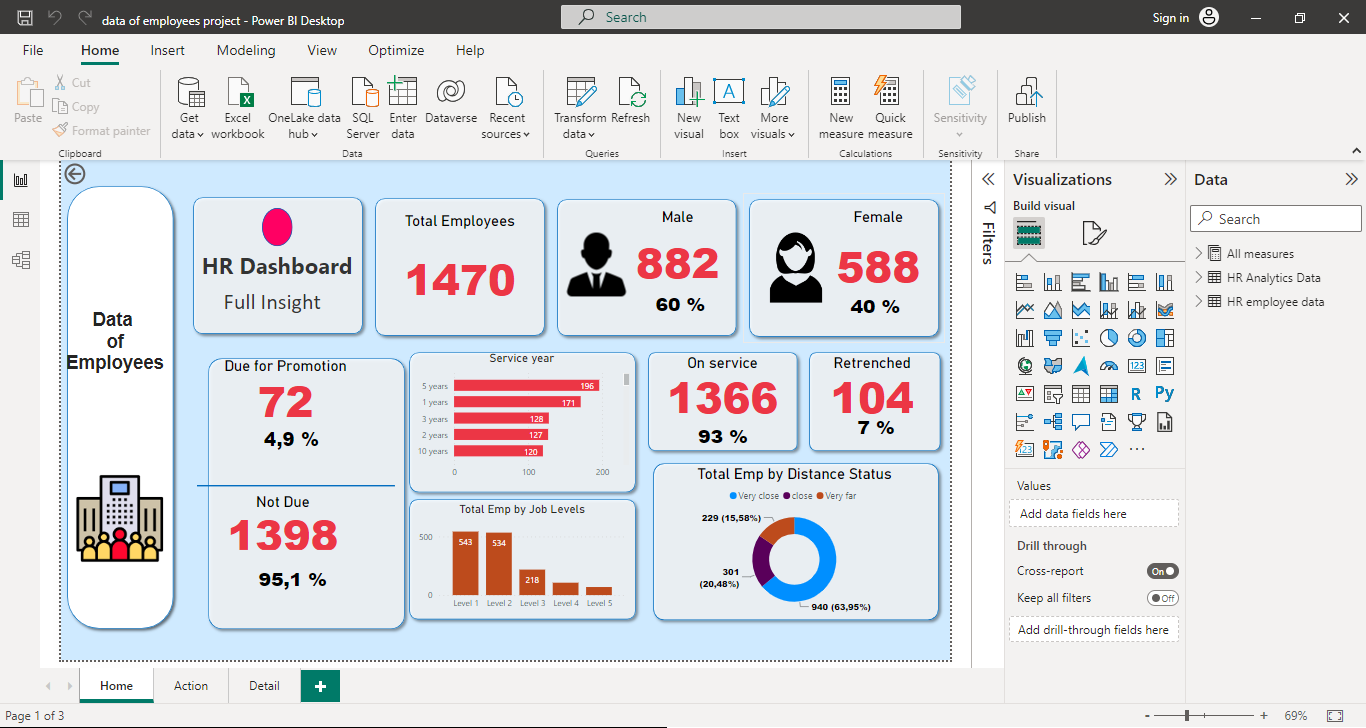

The page's visual inventory and layout, read from the dashboard file:
{"tool":"powerbi","page":{"name":"Home","canvas":[1280,720],"ordinal":0},"visuals":[{"type":"shape","box":[0,28.8,171.4,655.2],"z":0},{"type":"shape","box":[181.4,45.4,262,215],"z":1000},{"type":"shape","box":[443.6,45.5,261.8,216.4],"z":2000},{"type":"shape","box":[705.5,47.3,276.4,214.5],"z":3000},{"type":"shape","box":[981.8,47.3,290.9,216.4],"z":4000},{"type":"shape","box":[203,276.5,301,407.5],"z":5000},{"type":"shape","box":[492.7,267.3,343.6,220],"z":6000},{"type":"shape","box":[492.7,480,343.6,190.9],"z":7000},{"type":"shape","box":[836.4,267.3,232.7,160],"z":8000},{"type":"shape","box":[843.6,427.3,429.1,243.6],"z":9000},{"type":"shape","box":[1069.1,267.3,207.3,160],"z":10000},{"type":"textbox","box":[189.1,123.6,245.5,56.4],"z":11000},{"type":"textbox","box":[181.8,180,245.5,56.4],"z":12000},{"type":"shape","box":[289.1,69.1,43.6,54.5],"z":13000},{"type":"card","title":"Total Employees","fields":{"Values":["All measures.Total Emp"]},"box":[458.2,74.5,232.7,161.8],"z":14000},{"type":"card","title":"Male","fields":{"Values":["All measures.Male"]},"box":[807.3,69.1,160,125.5],"z":15000},{"type":"card","title":"Female","fields":{"Values":["All measures.Female"]},"box":[1096.4,69.1,161.8,138.2],"z":16000},{"type":"card","title":"Male","fields":{"Values":["All measures.% female"]},"box":[1096.4,156.4,152.7,107.3],"z":17000},{"type":"image","box":[720,96.4,101.8,107.3],"z":18000},{"type":"image","box":[998.2,100,120,110.9],"z":19000},{"type":"card","title":"Male","fields":{"Values":["All measures.% male"]},"box":[814.5,154.5,152.7,107.3],"z":20000},{"type":"card","title":"Due for Promotion","fields":{"Values":["All measures.Due for Promotion"]},"box":[189.1,283.6,269.1,98.2],"z":21000},{"type":"card","title":"Male","fields":{"Values":["All measures.% Due for Prmotion"]},"box":[267.3,360,129.1,83.6],"z":22000},{"type":"shape","box":[196.4,443.6,285.5,50.9],"z":23000},{"type":"card","title":"Not Due","fields":{"Values":["All measures.Not Due"]},"box":[196.4,480,247.3,87.3],"z":24000},{"type":"card","title":"Male","fields":{"Values":["All measures.% Not Due"]},"box":[267.3,561.8,130.9,85.5],"z":25000},{"type":"actionButton","box":[0,0,100,40],"z":26000},{"type":"clusteredBarChart","title":"Service year","fields":{"Category":["HR Analytics Data.Service year"],"Y":["All measures.Total Emp"]},"box":[503.3,275.6,318.9,193.3],"z":27000},{"type":"columnChart","fields":{"Category":["HR Analytics Data.Job Levels"],"Y":["All measures.Total Emp"]},"box":[510,492.9,308.6,164.3],"z":28000},{"type":"card","title":"On service","fields":{"Values":["All measures.On service"]},"box":[864.3,280,177.1,92.9],"z":29000},{"type":"card","title":"Male","fields":{"Values":["All measures.% On service"]},"box":[911.4,372.9,82.9,51.4],"z":30000},{"type":"card","title":"Retrenched","fields":{"Values":["All measures.will be retrenched"]},"box":[1087.1,280,161.4,92.9],"z":31000},{"type":"card","title":"Male","fields":{"Values":["All measures.% will be retrenched"]},"box":[1131.4,360,82.9,51.4],"z":32000},{"type":"donutChart","fields":{"Category":["HR Analytics Data.Distance Status"],"Y":["All measures.Total Emp"]},"box":[864.3,438.6,384.3,218.6],"z":33000},{"type":"image","box":[13,427.7,142.6,177.1],"z":34000},{"type":"textbox","box":[0,210.2,155.5,175.7],"z":35000}]}

Visuals, with their boxes on the page's 1280x720 design canvas (x1, y1, x2, y2). These are canvas units, not pixel positions in the 1366x728 screenshot, which may show the page scaled, cropped or inside an application window:
shape: x1=0 y1=29 x2=171 y2=684
shape: x1=181 y1=45 x2=443 y2=260
shape: x1=444 y1=46 x2=705 y2=262
shape: x1=706 y1=47 x2=982 y2=262
shape: x1=982 y1=47 x2=1273 y2=264
shape: x1=203 y1=276 x2=504 y2=684
shape: x1=493 y1=267 x2=836 y2=487
shape: x1=493 y1=480 x2=836 y2=671
shape: x1=836 y1=267 x2=1069 y2=427
shape: x1=844 y1=427 x2=1273 y2=671
shape: x1=1069 y1=267 x2=1276 y2=427
textbox: x1=189 y1=124 x2=435 y2=180
textbox: x1=182 y1=180 x2=427 y2=236
shape: x1=289 y1=69 x2=333 y2=124
"Total Employees" card: x1=458 y1=74 x2=691 y2=236
"Male" card: x1=807 y1=69 x2=967 y2=195
"Female" card: x1=1096 y1=69 x2=1258 y2=207
"Male" card: x1=1096 y1=156 x2=1249 y2=264
image: x1=720 y1=96 x2=822 y2=204
image: x1=998 y1=100 x2=1118 y2=211
"Male" card: x1=814 y1=154 x2=967 y2=262
"Due for Promotion" card: x1=189 y1=284 x2=458 y2=382
"Male" card: x1=267 y1=360 x2=396 y2=444
shape: x1=196 y1=444 x2=482 y2=494
"Not Due" card: x1=196 y1=480 x2=444 y2=567
"Male" card: x1=267 y1=562 x2=398 y2=647
actionButton: x1=0 y1=0 x2=100 y2=40
"Service year" clusteredBarChart: x1=503 y1=276 x2=822 y2=469
columnChart - HR Analytics Data.Job Levels x All measures.Total Emp: x1=510 y1=493 x2=819 y2=657
"On service" card: x1=864 y1=280 x2=1041 y2=373
"Male" card: x1=911 y1=373 x2=994 y2=424
"Retrenched" card: x1=1087 y1=280 x2=1248 y2=373
"Male" card: x1=1131 y1=360 x2=1214 y2=411
donutChart - HR Analytics Data.Distance Status x All measures.Total Emp: x1=864 y1=439 x2=1249 y2=657
image: x1=13 y1=428 x2=156 y2=605
textbox: x1=0 y1=210 x2=156 y2=386
